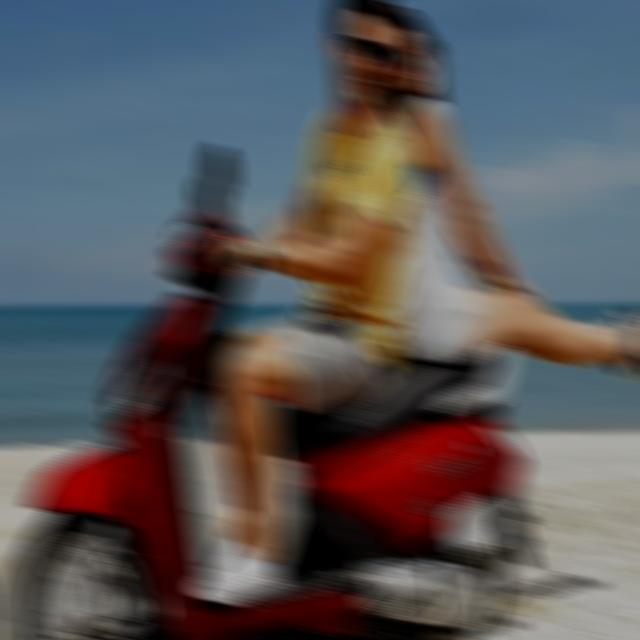Without Helmet: (323, 0, 392, 120), (381, 0, 435, 107)
